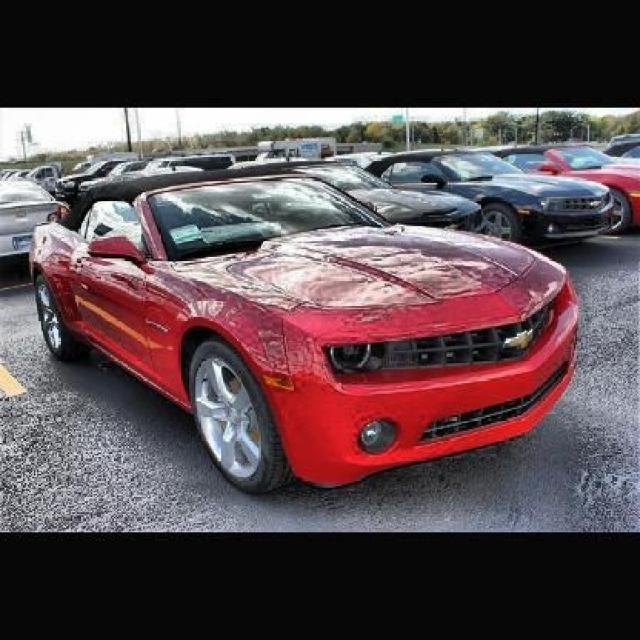red: (31, 167, 582, 493)
